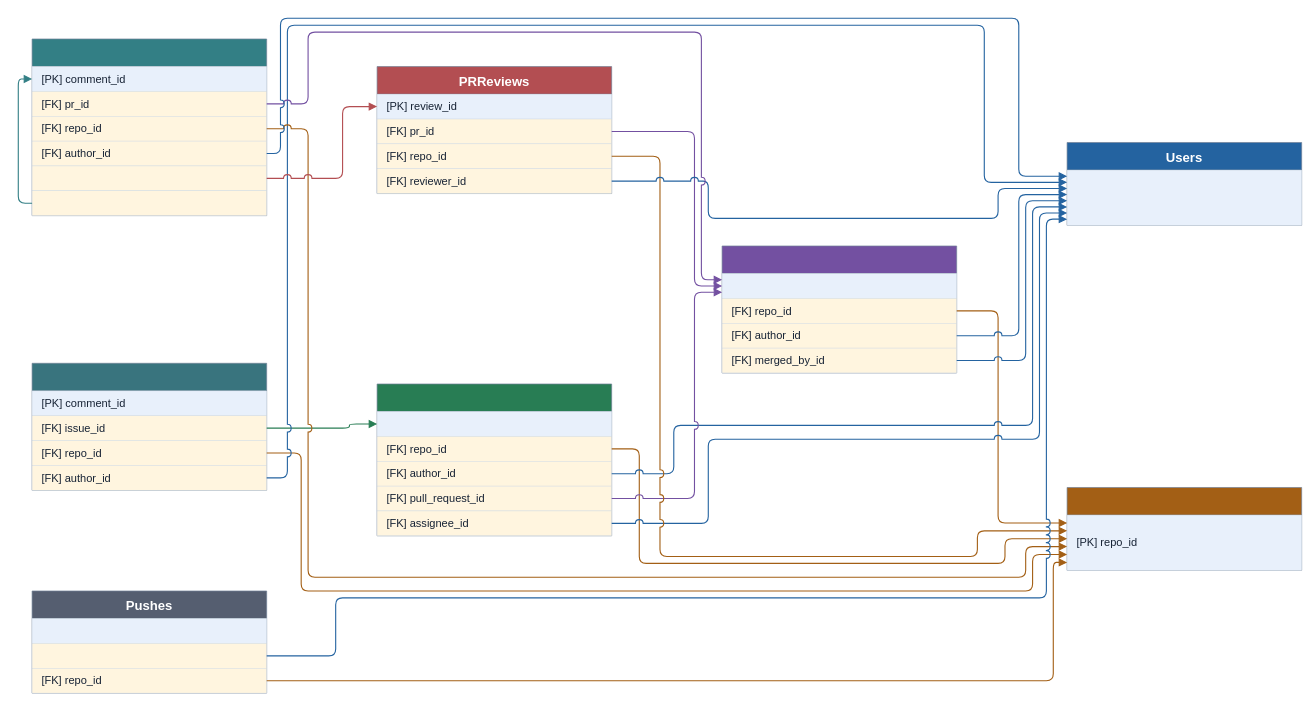
This 1314x706 diagram has some shape labels left out. Here are the shapes that lost their labels. From the top down, the box of each, then its label:
(31, 38, 267, 216): PRReviewComments
(32, 165, 267, 191): [FK] pull_request_review_id
(1067, 170, 1302, 225): [PK] user_id
(32, 190, 267, 215): [FK] in_reply_to_id
(722, 273, 957, 298): [PK] pr_id
(721, 245, 957, 373): PullRequests
(31, 363, 267, 490): IssueComments
(377, 411, 612, 436): [PK] issue_id
(376, 383, 612, 536): Issues
(1066, 487, 1302, 570): Repositories
(32, 618, 267, 643): [PK] push_id
(32, 643, 267, 668): [FK] user_id
